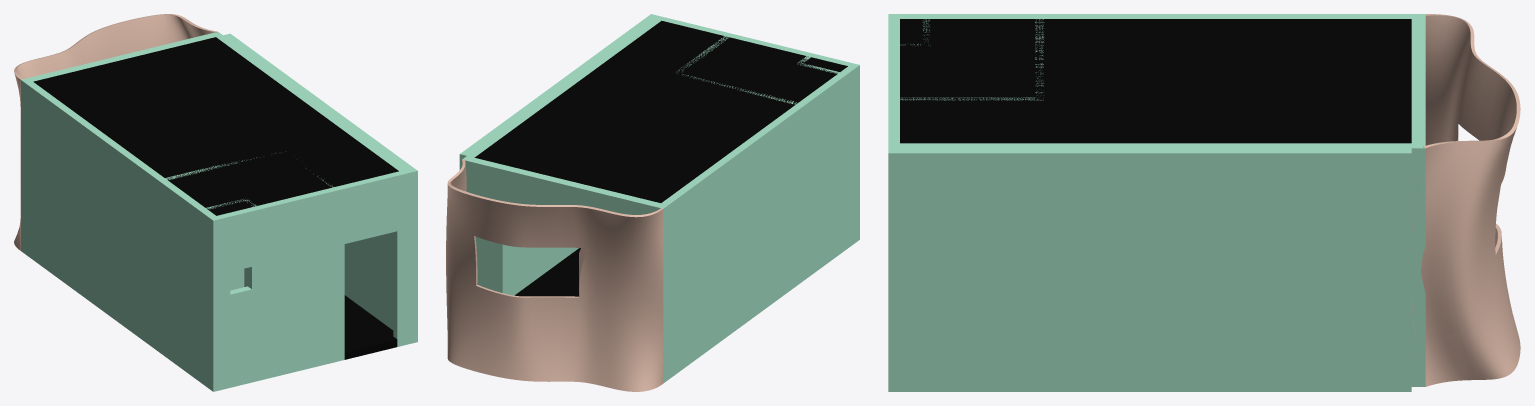
File: oneBR-2-surface.gltf
3 views of the same model, side by side, from view 1: azimuth 30°, elevation 25°; view 2: azimuth 150°, elevation 25°; view 3: azimuth 270°, elevation 25° (orthographic). The views are drawn at different scales.
Bounding box in the file's own units: 4.25 × 3.44 × 8.16.
